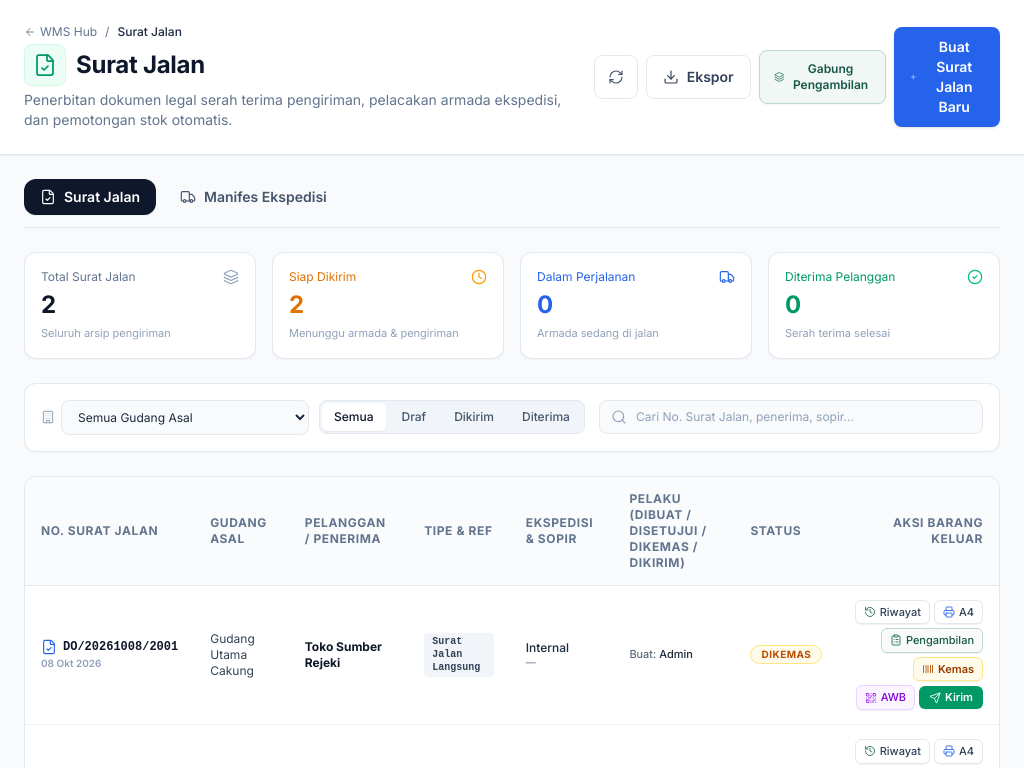
Scenario: Task 5: WMS Shipping Manifests & Digital Signature Components › 4. DeliveryOrdersPanel Tab Toggle Integration › toggles between Surat Jalan and Manifes Ekspedisi submodules
The width and height of the screenshot is (1024, 768).
Expected: the button "Surat Jalan" is shown, [24, 179, 156, 215]
Expected: the text "Total Surat Jalan" is shown, [41, 269, 136, 285]
Switch to Manifes Ekspedisi tab
Step 1. Click the button "Manifes Ekspedisi" → click(253, 197), box [164, 179, 343, 215]
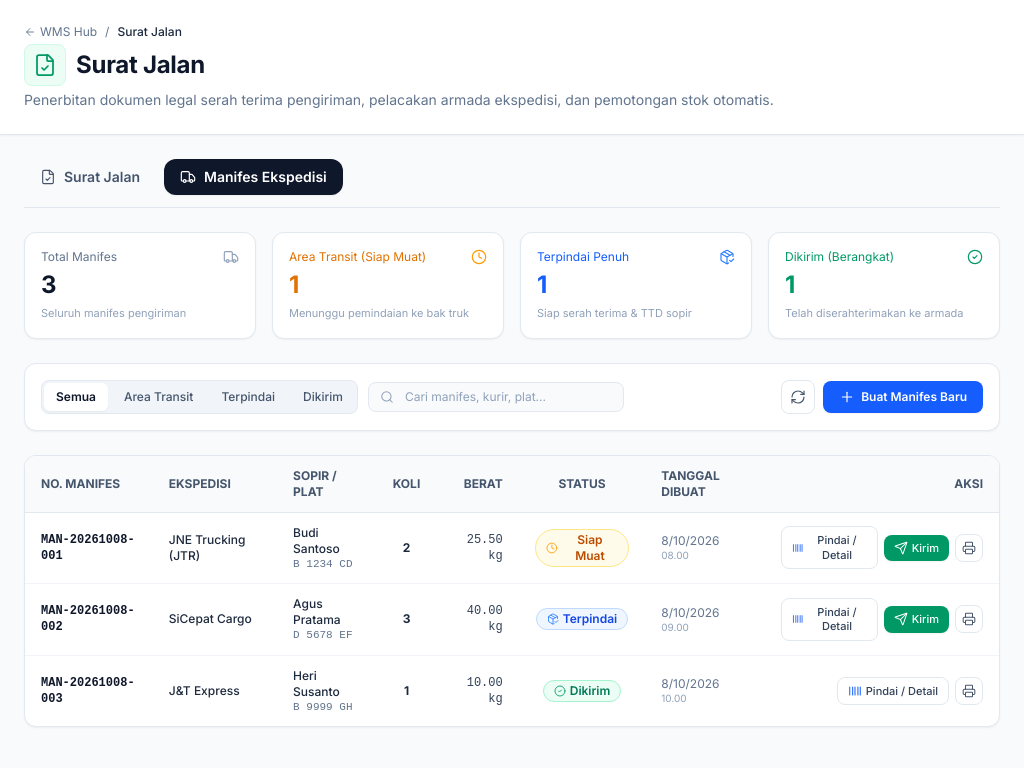
Expected: the text "Total Manifes" is shown, [41, 249, 117, 265]
Expected: the text "MAN-20261008-001" is shown, [25, 512, 153, 584]
Switch back to DO tab
Step 2. Click the button "Surat Jalan" → click(90, 177), box [24, 159, 156, 195]
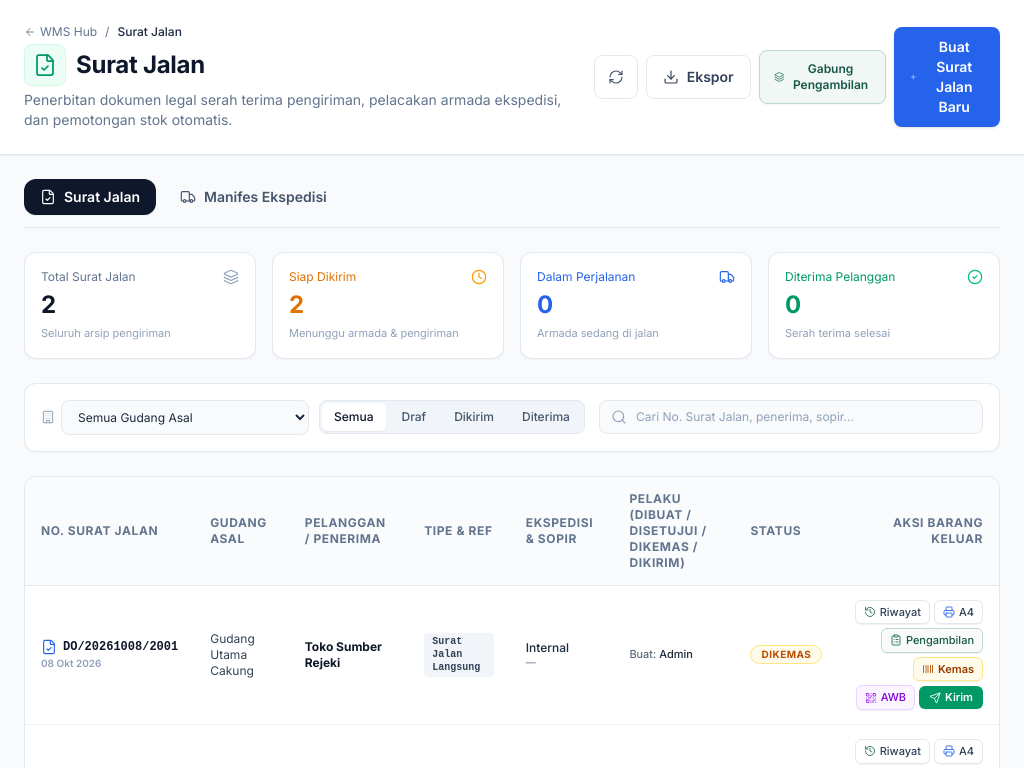
Expected: the text "Total Surat Jalan" is shown, [41, 269, 136, 285]
